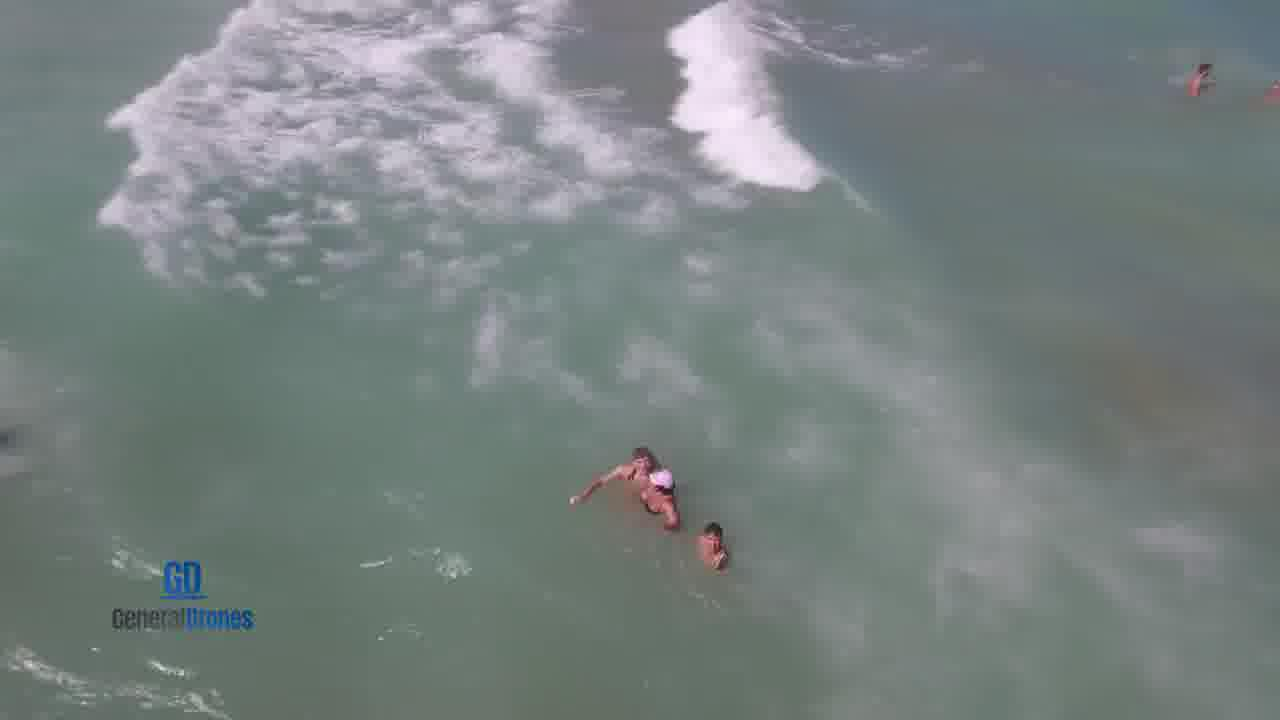human: (560, 431, 654, 501), (683, 511, 743, 582), (639, 465, 688, 533)
